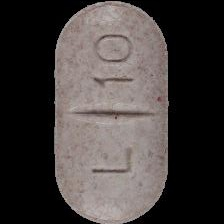53808-0668: (0, 0, 224, 224)
